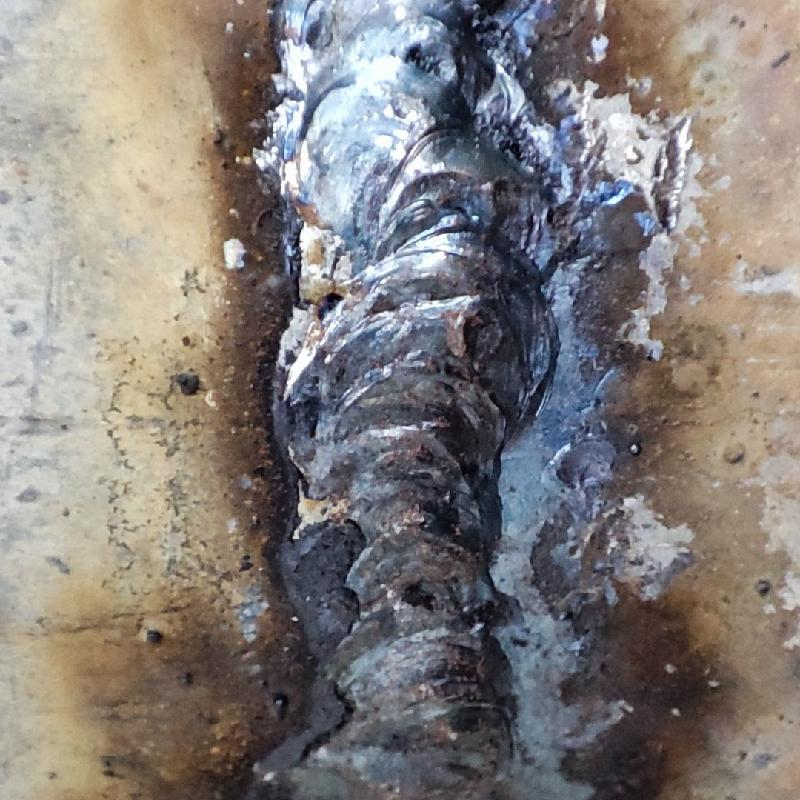Surface_pores: (384, 565, 460, 618)
